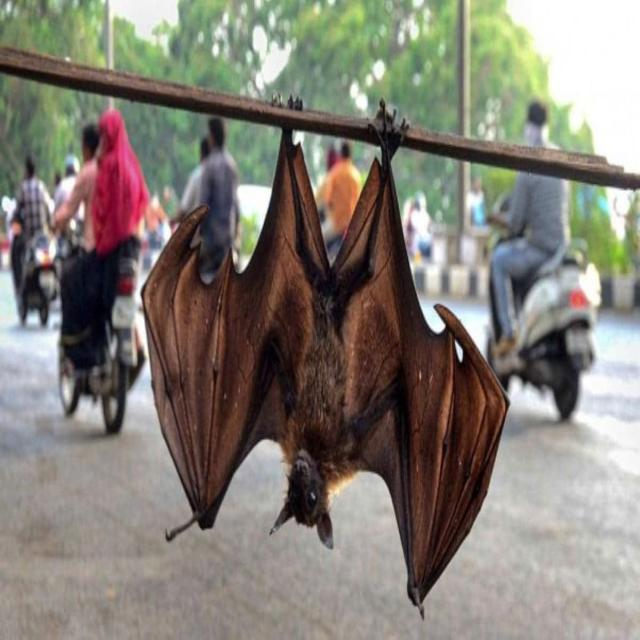Bat: (136, 99, 513, 600)
